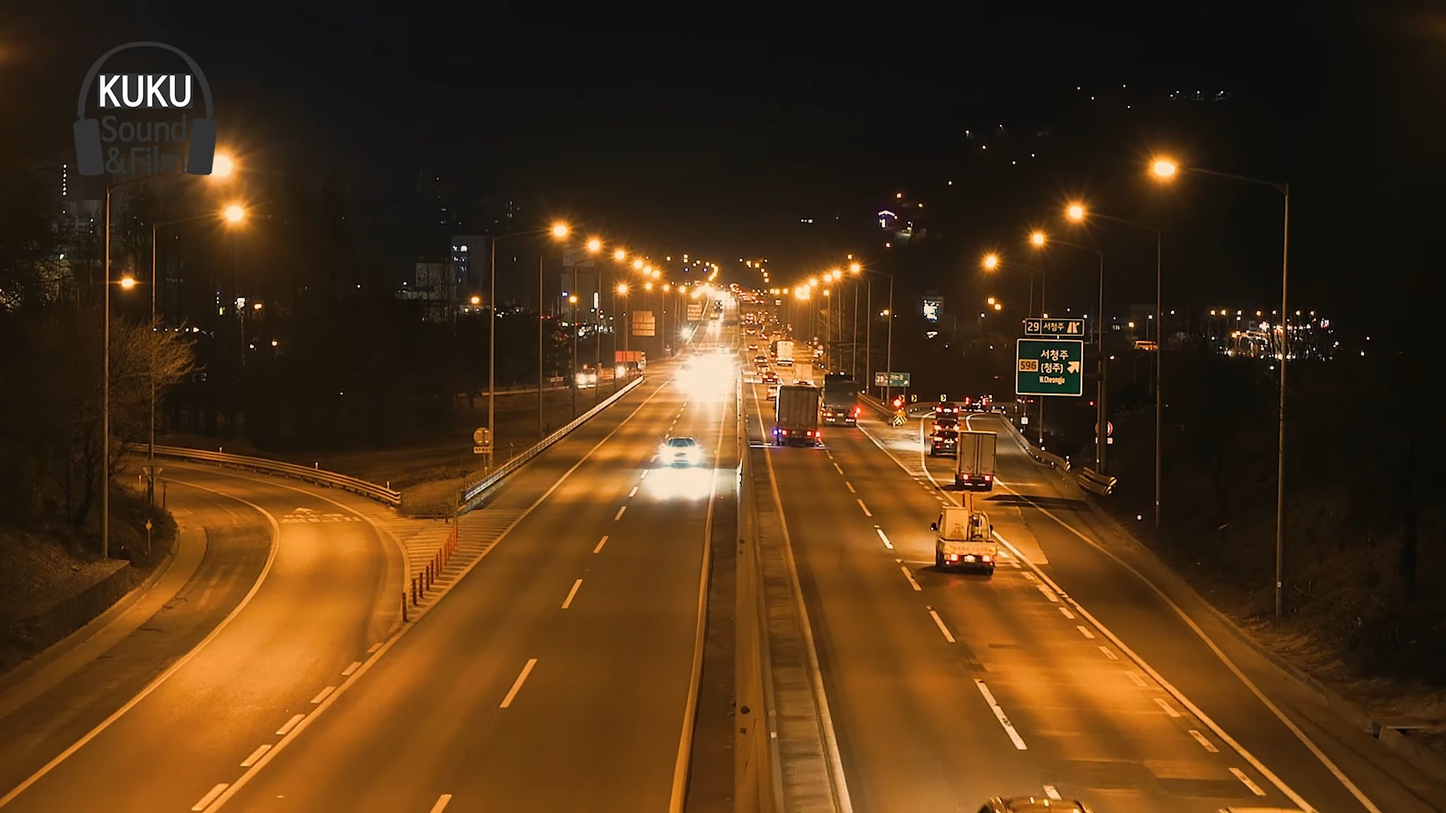car: (655, 434, 703, 476)
truck: (931, 503, 1000, 576), (770, 378, 823, 449), (954, 423, 994, 492), (819, 367, 860, 432)
